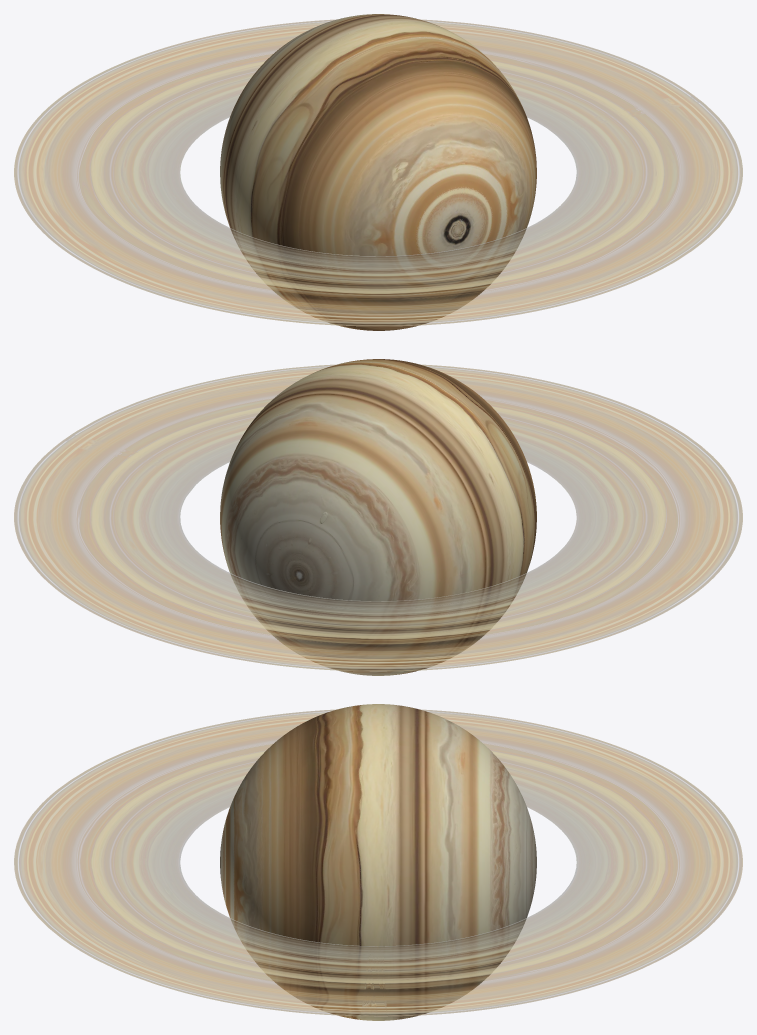
File: saturn2.glb
3 renders of one model, top to bottom at view 1: azimuth 30°, elevation 25°; view 2: azimuth 150°, elevation 25°; view 3: azimuth 270°, elevation 25°, orthographic.
Parts seen in each view (by area): view 1: Saturn_Rings, Saturn_Planet; view 2: Saturn_Rings, Saturn_Planet; view 3: Saturn_Rings, Saturn_Planet.
Boxes of the visible parts, box(x1,y1,x2,y2) form: Saturn_Rings: box(14, 19, 742, 326); Saturn_Planet: box(220, 14, 536, 330); Saturn_Rings: box(14, 364, 742, 671); Saturn_Planet: box(220, 359, 536, 675); Saturn_Rings: box(14, 709, 742, 1016); Saturn_Planet: box(220, 704, 536, 1020).
Size of the model in its own units: 4.6 by 2 by 4.6.
2 materials, 2 textured.
